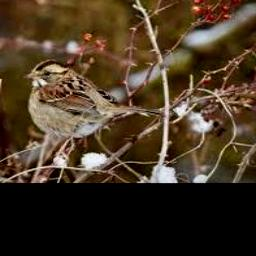Sparrow: (22, 60, 164, 149)
